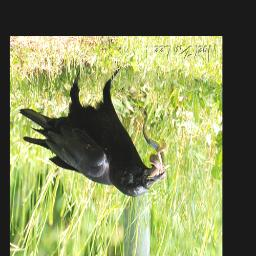Crow: (21, 67, 166, 197)
